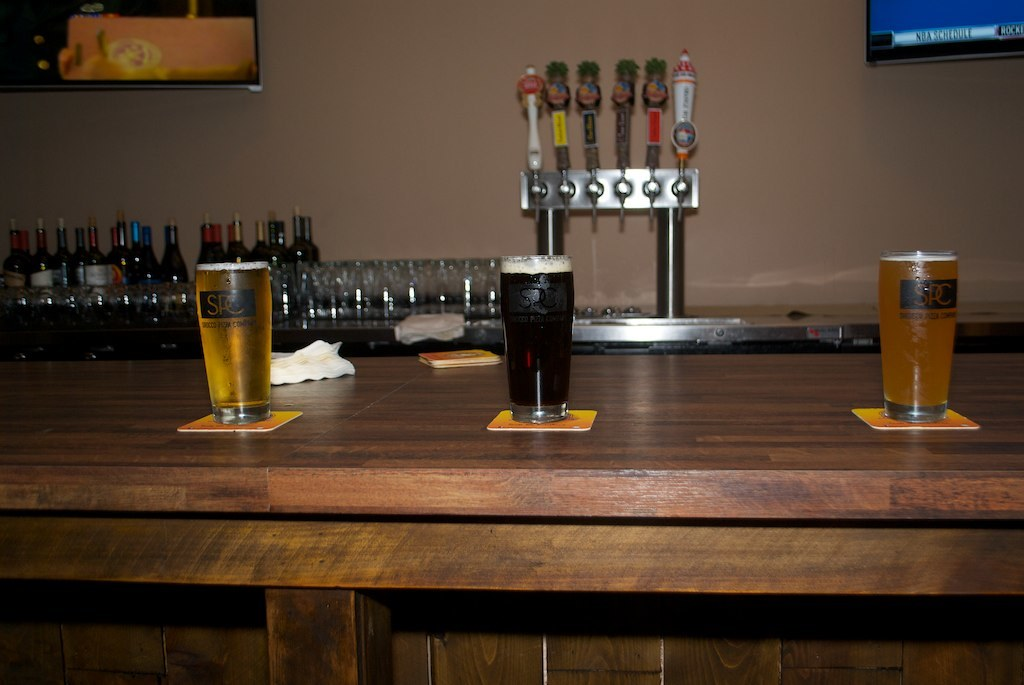Beer: (876, 248, 961, 421), (188, 259, 273, 427)
